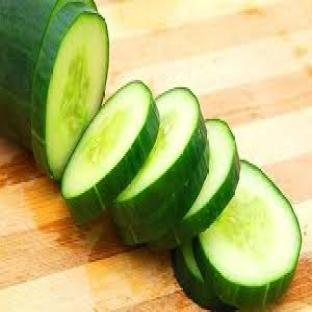Cucumber: (195, 162, 301, 308), (112, 88, 209, 245), (32, 2, 109, 180), (62, 82, 159, 222), (150, 119, 240, 248), (172, 242, 232, 311), (117, 210, 183, 245)
